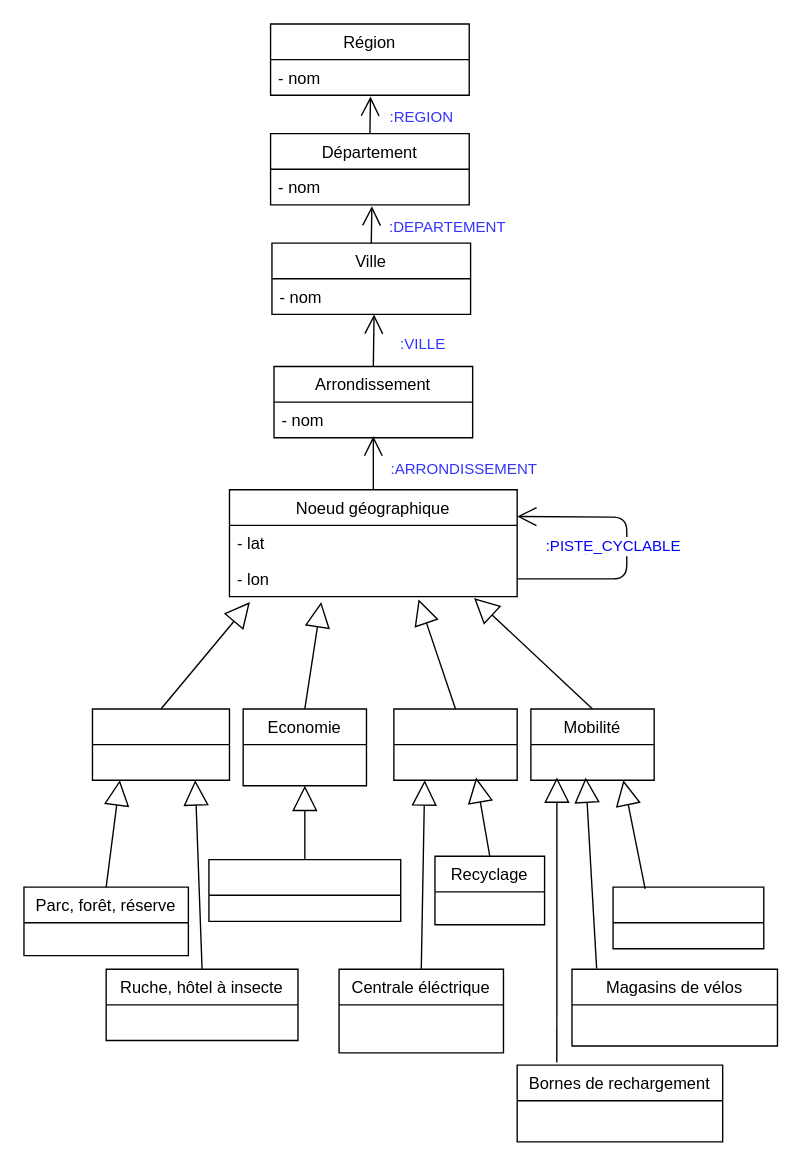
Image size: 801x1166. Some labels were removed from this diagram. Here are the shapes that lost their labels. From the top down, the centre of each, then its label:
(x=160, y=744): Biodiversité
(x=455, y=744): Energie
(x=304, y=889): Magasins, restaurants
(x=688, y=917): Arrêt de bus/train
